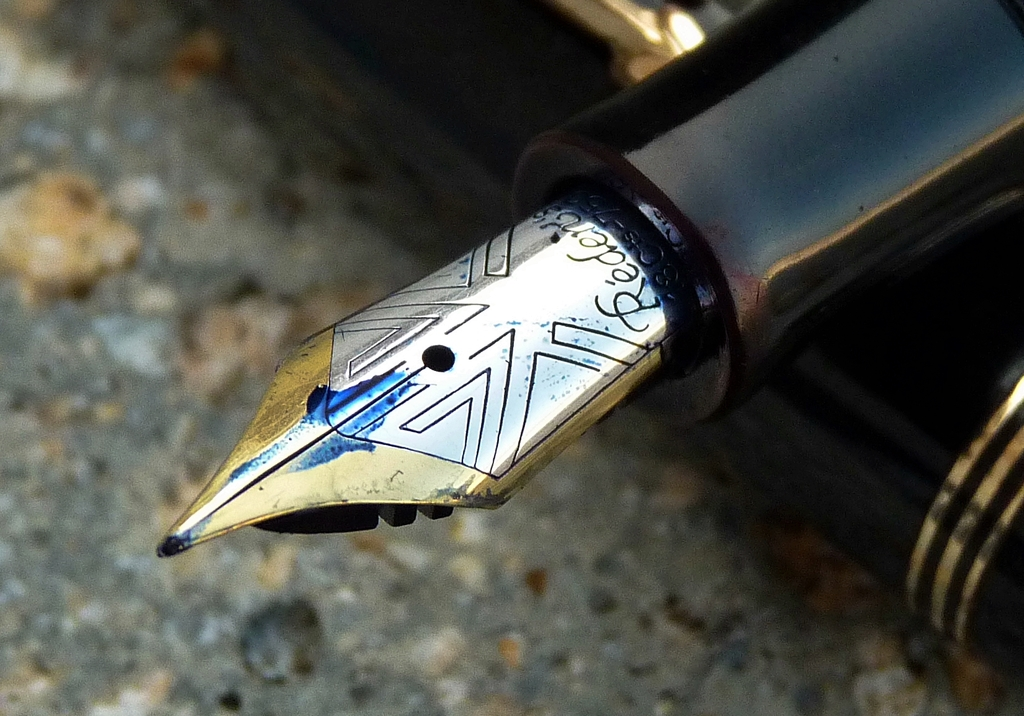Pen: (154, 0, 1021, 558)
